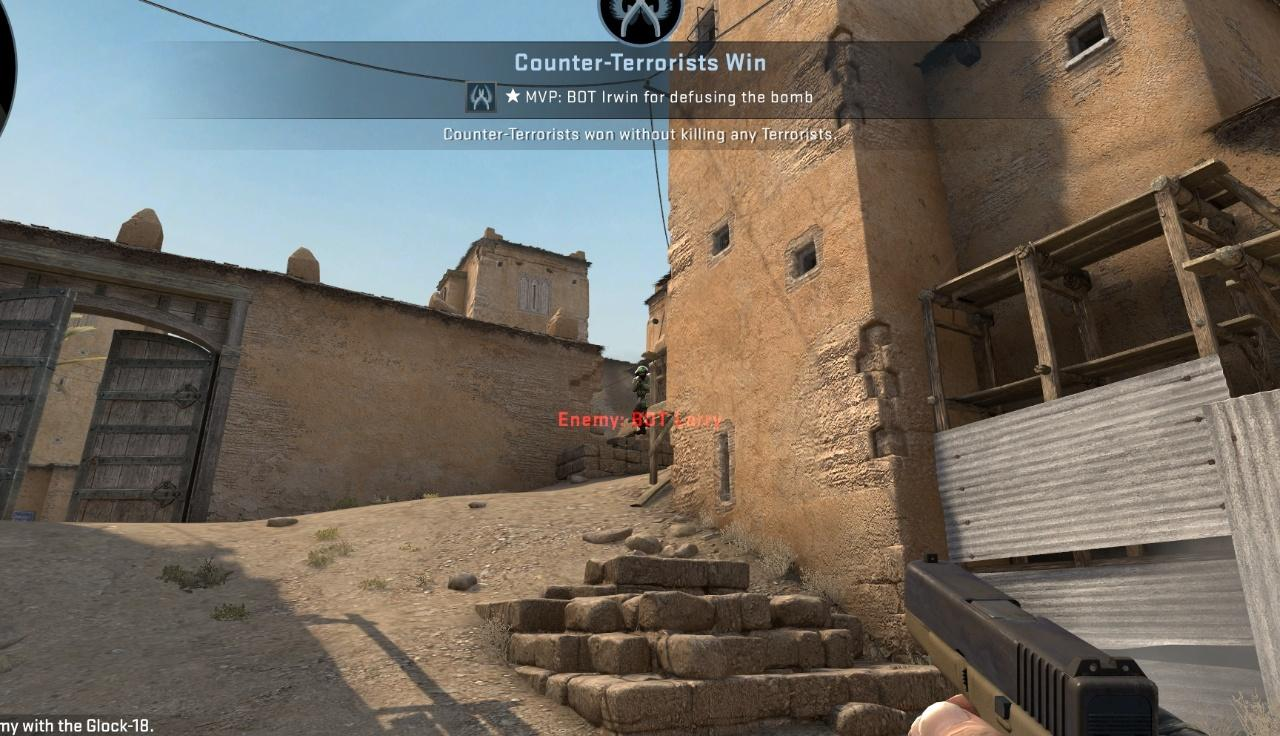ct: (634, 365, 652, 434)
cthead: (637, 366, 647, 379)
pistol: (905, 551, 1234, 736)
